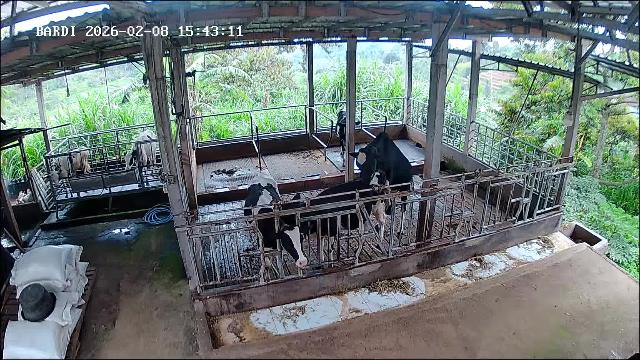mounting: (352, 131, 415, 237)
